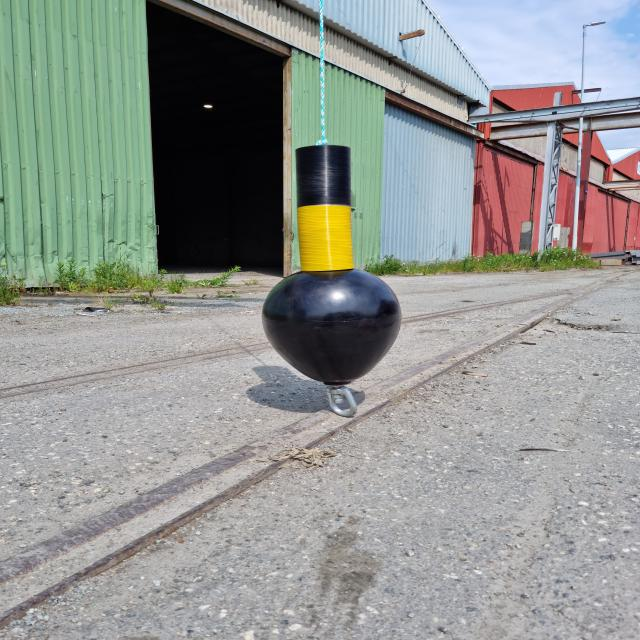east: (261, 143, 402, 384)
